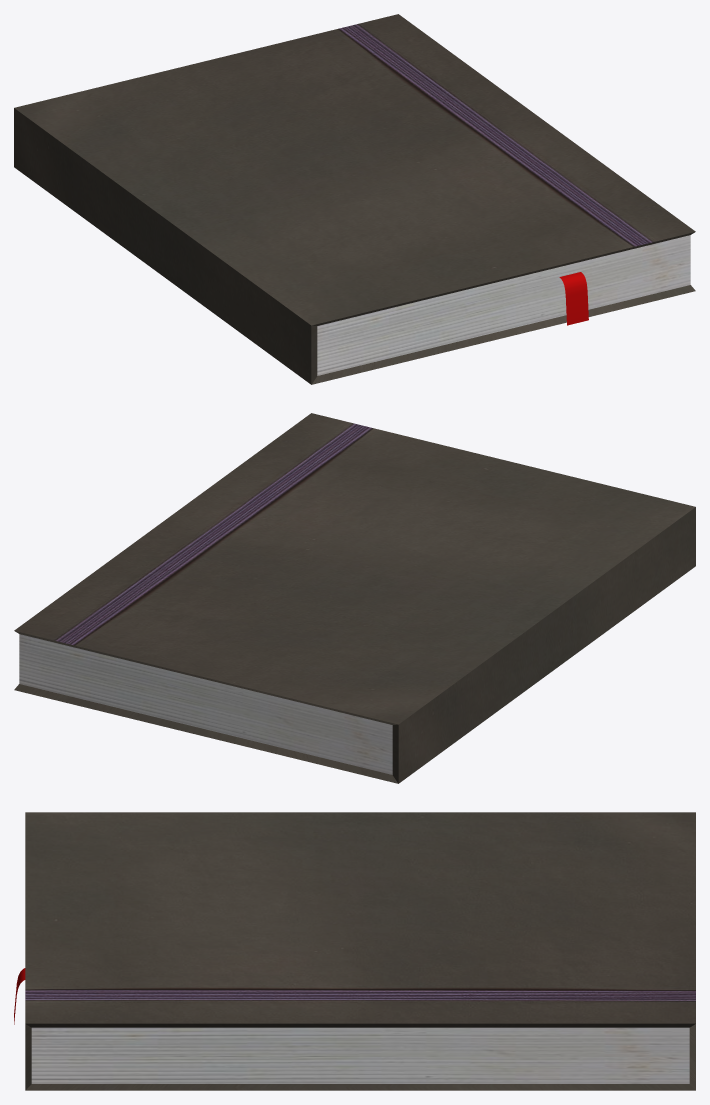
File: Notebook.FBX
3 renders of one model, top to bottom at view 1: azimuth 30°, elevation 25°; view 2: azimuth 150°, elevation 25°; view 3: azimuth 270°, elevation 25°, orthographic. The views are drawn at different scales.
Parts seen in each view (by area): view 1: notebook; view 2: notebook; view 3: notebook.
Boxes of the visible parts, left/top/right/bottom form: notebook: left=14, top=14, right=695, bottom=384; notebook: left=14, top=413, right=695, bottom=783; notebook: left=14, top=812, right=695, bottom=1090.
Bounding box in the file's own units: 13.24 × 1.95 × 18.03.
Materials: 1 (1 with a texture image).
